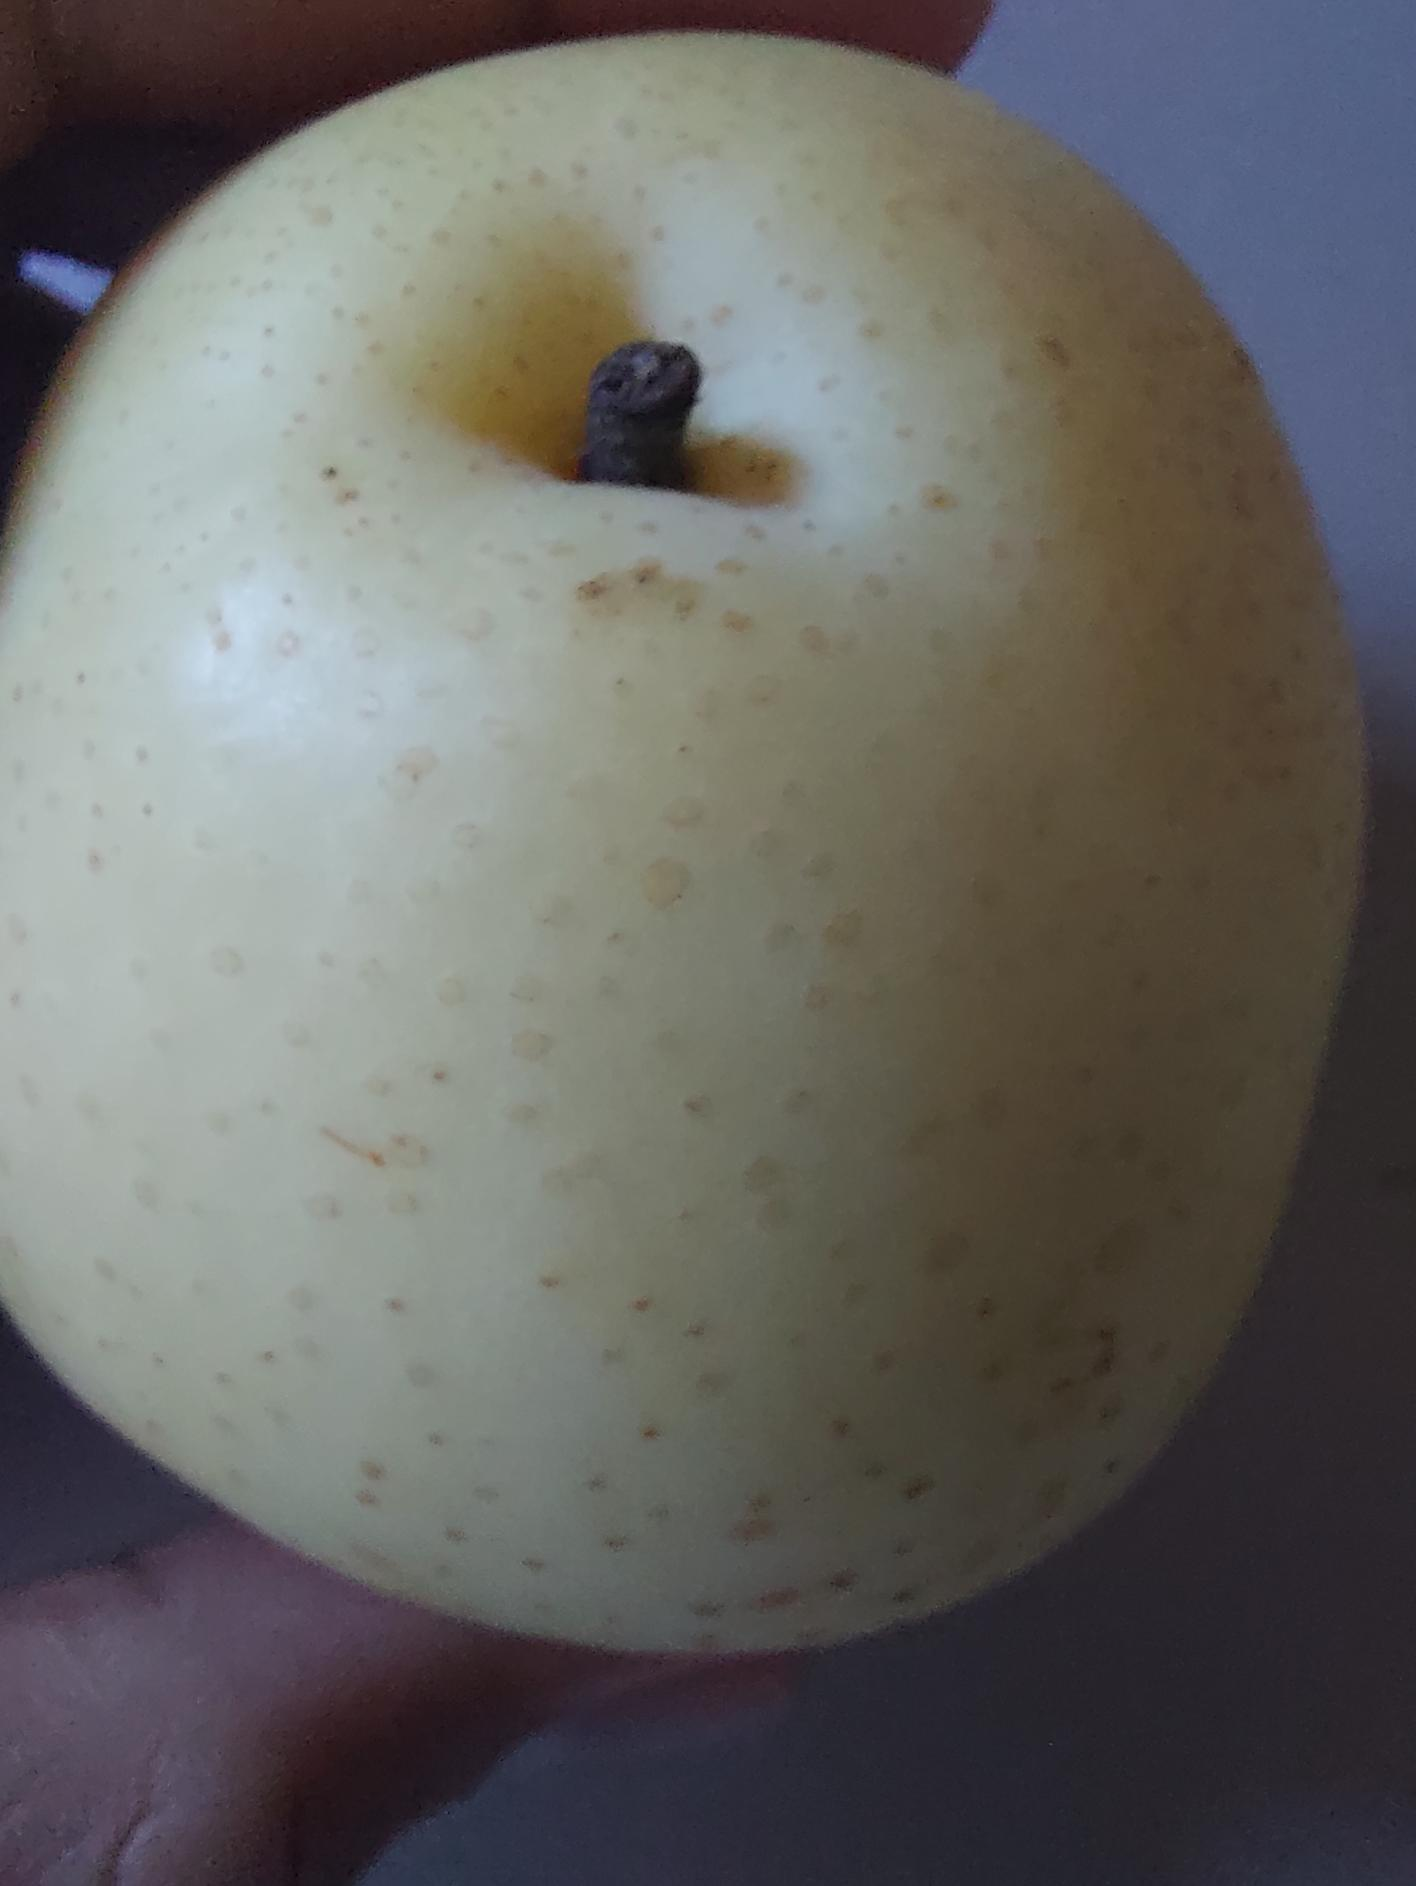Good Pear: (0, 19, 1364, 1641)
